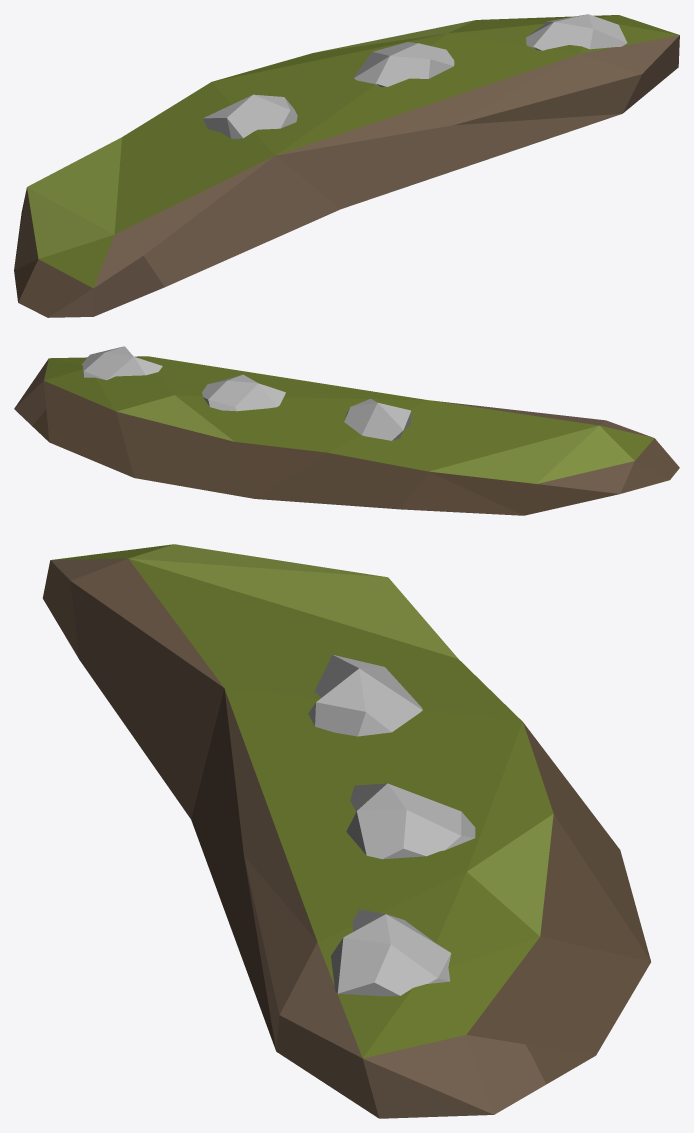
File: EA03_Environment_RoadIsland_08a.glb
The picture shows the model from 3 angles, top to bottom: view 1: azimuth 30°, elevation 25°; view 2: azimuth 150°, elevation 25°; view 3: azimuth 270°, elevation 25°; orthographic projection. The views are drawn at different scales.
Parts seen in each view (by area): view 1: EA03_Environment_RoadIsland_08a; view 2: EA03_Environment_RoadIsland_08a; view 3: EA03_Environment_RoadIsland_08a.
Part boxes in pixels (x1=…): EA03_Environment_RoadIsland_08a: x1=14, y1=14, x2=679, y2=317; EA03_Environment_RoadIsland_08a: x1=14, y1=346, x2=679, y2=515; EA03_Environment_RoadIsland_08a: x1=42, y1=544, x2=650, y2=1118.
Bounding box in the file's own units: 3.94 × 0.4224 × 1.83.
1 material, 1 textured.
